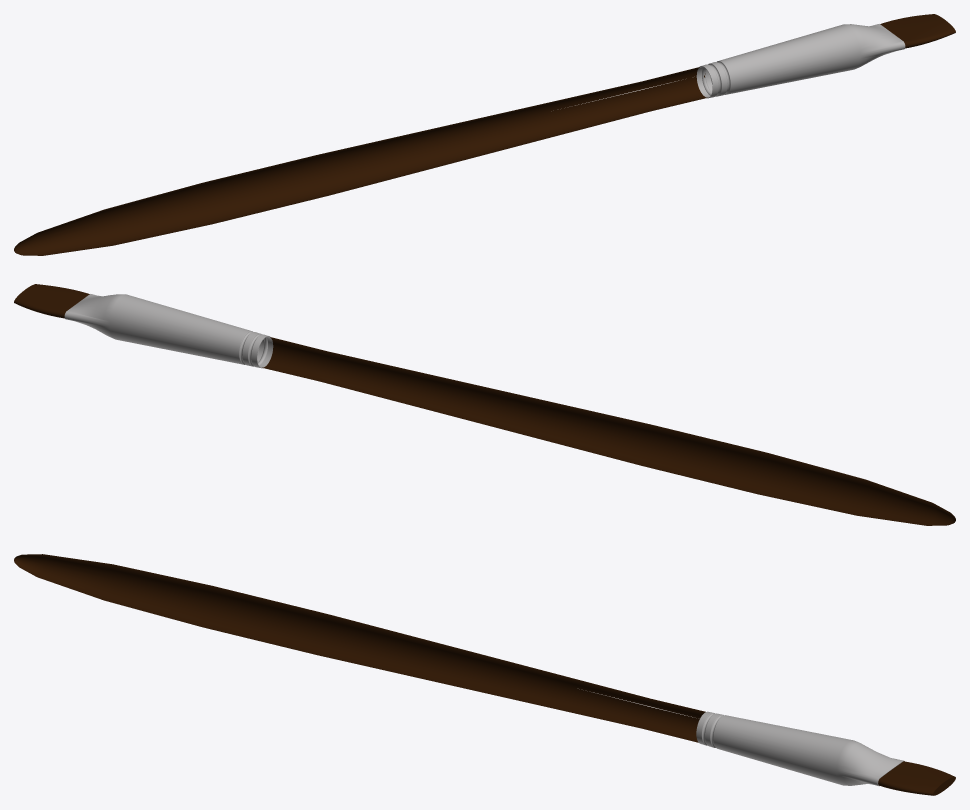
Rendered from painting_brush.glb.
3 views of the same model, one above another, from view 1: azimuth 30°, elevation 25°; view 2: azimuth 150°, elevation 25°; view 3: azimuth 330°, elevation 25° (orthographic).
Parts seen in each view (by area): view 1: Object_3, Object_2; view 2: Object_3, Object_2; view 3: Object_3, Object_2.
Part boxes in pixels (box(x1,y1,x2,y2)): Object_3: box(14, 14, 955, 255); Object_2: box(696, 24, 905, 98); Object_3: box(14, 284, 955, 525); Object_2: box(64, 294, 273, 368); Object_3: box(14, 554, 955, 795); Object_2: box(696, 711, 904, 786).
Size of the model in its own units: 323 by 13.95 by 17.55.
